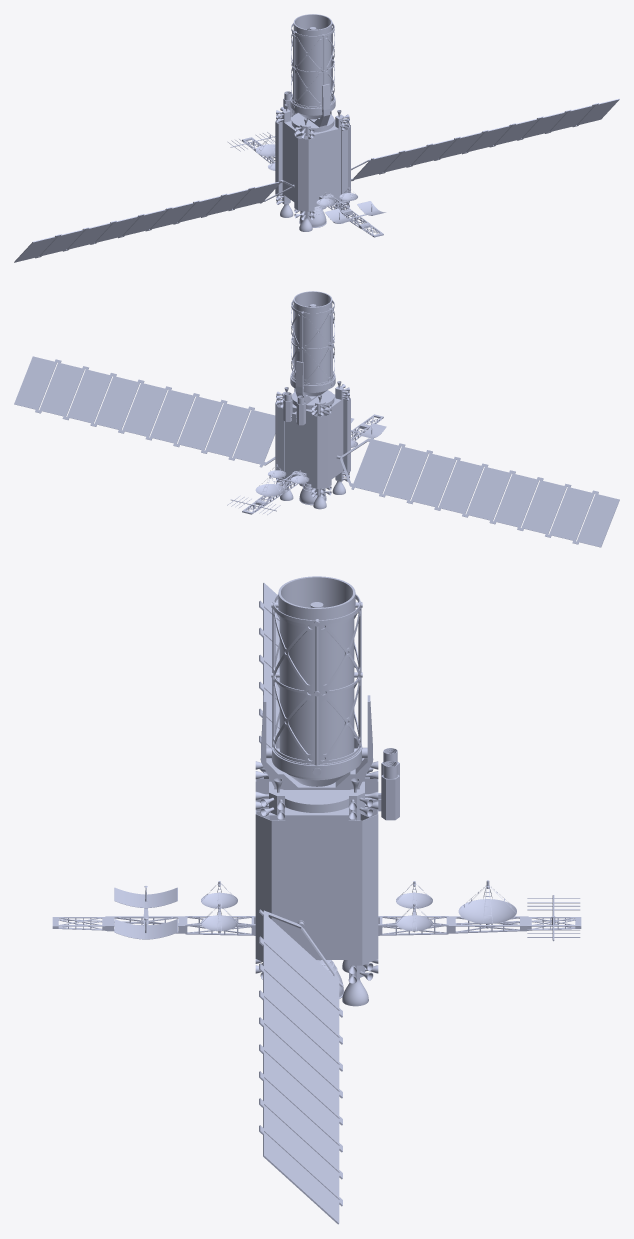
Rendered from Satellite.fbx.
3 views of the same model, one above another, from view 1: azimuth 30°, elevation 25°; view 2: azimuth 150°, elevation 25°; view 3: azimuth 270°, elevation 25° (orthographic). The views are drawn at different scales.
Parts seen in each view (by area): view 1: Satellite; view 2: Satellite; view 3: Satellite.
Part boxes in pixels (bbox=[...]): Satellite: bbox=[14, 14, 619, 262]; Satellite: bbox=[14, 291, 619, 547]; Satellite: bbox=[52, 576, 581, 1224].
Bounding box in the file's own units: 25480 × 9942 × 8300.
